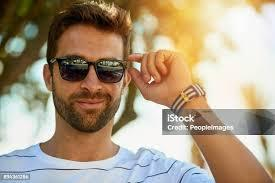sunglasses: (57, 51, 129, 87)
